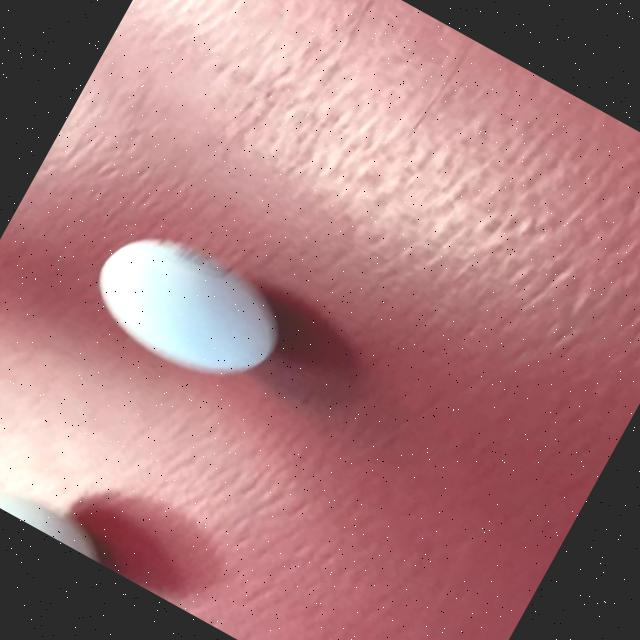ping-pong-ball: (36, 177, 331, 436), (0, 439, 161, 586)
